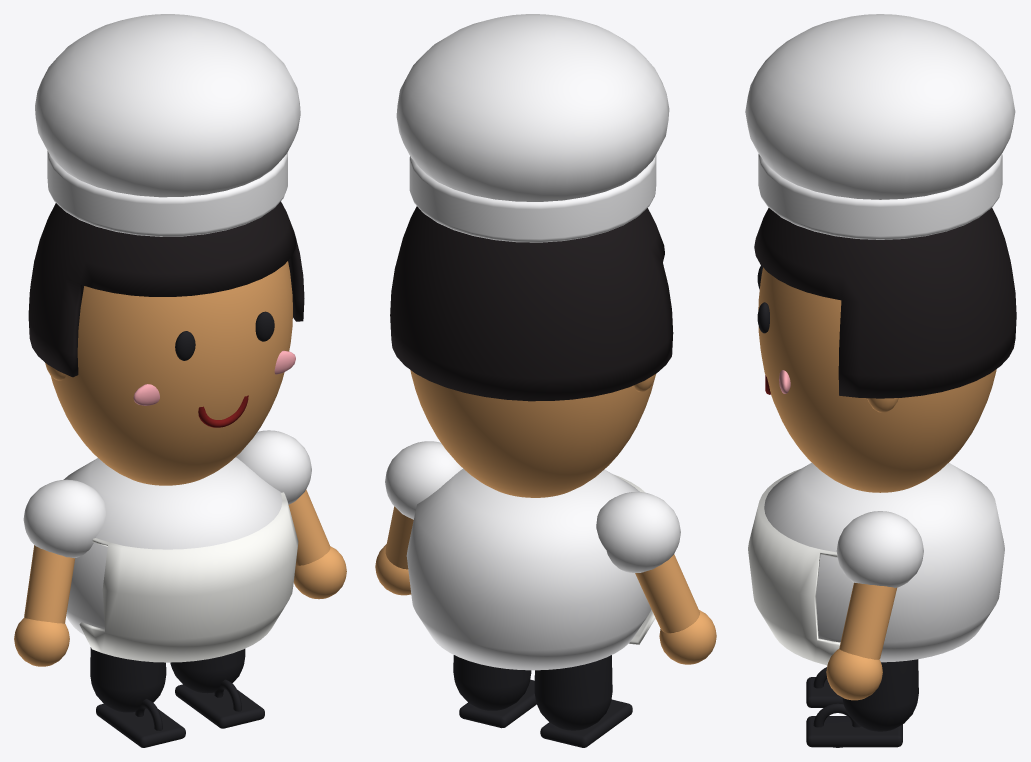
Rendered from worker_cook.glb.
3 views of the same model, side by side, from view 1: azimuth 30°, elevation 25°; view 2: azimuth 150°, elevation 25°; view 3: azimuth 270°, elevation 25° (orthographic). The views are drawn at different scales.
Parts seen in each view (by area): view 1: ToquePuff, HeadSkin, Apron, Hair, Torso, ToqueBand, Sleeve-1, Leg-1, Sleeve1, UpperArmR, HandR, Shoe-1 (+4 smaller); view 2: Hair, ToquePuff, Torso, HeadSkin, ToqueBand, Sleeve-1, Leg-1, Sleeve1, UpperArmR, Leg1, HandR, Shoe-1 (+3 smaller); view 3: ToquePuff, Hair, Torso, HeadSkin, ToqueBand, Apron, Sleeve1, Leg1, UpperArmL, Shoe1, HandL, Shoe-1 (+1 smaller).
Boxes of the visible parts, bbox=[...] form: ToquePuff: bbox=[35, 14, 300, 197]; HeadSkin: bbox=[51, 261, 292, 485]; Apron: bbox=[79, 492, 298, 662]; Hair: bbox=[28, 201, 304, 377]; Torso: bbox=[63, 457, 282, 634]; ToqueBand: bbox=[47, 151, 287, 236]; Sleeve-1: bbox=[23, 479, 105, 558]; Leg-1: bbox=[90, 647, 166, 712]; Sleeve1: bbox=[236, 430, 311, 504]; UpperArmR: bbox=[24, 545, 74, 623]; HandR: bbox=[14, 618, 69, 666]; Shoe-1: bbox=[96, 703, 185, 747]; Hair: bbox=[390, 206, 673, 401]; ToquePuff: bbox=[396, 14, 669, 201]; Torso: bbox=[406, 468, 651, 670]; HeadSkin: bbox=[410, 370, 653, 497]; ToqueBand: bbox=[409, 155, 656, 242]; Sleeve-1: bbox=[596, 492, 680, 572]; Leg-1: bbox=[534, 655, 612, 730]; Sleeve1: bbox=[385, 441, 462, 519]; UpperArmR: bbox=[635, 554, 699, 633]; Leg1: bbox=[453, 655, 531, 710]; HandR: bbox=[659, 610, 716, 664]; Shoe-1: bbox=[540, 699, 632, 747]; ToquePuff: bbox=[745, 14, 1015, 199]; Hair: bbox=[754, 208, 1016, 398]; Torso: bbox=[764, 463, 1004, 662]; HeadSkin: bbox=[758, 267, 996, 492]; ToqueBand: bbox=[758, 154, 1002, 239]; Apron: bbox=[748, 469, 840, 665]; Sleeve1: bbox=[836, 511, 923, 587]; Leg1: bbox=[842, 659, 918, 731]; UpperArmL: bbox=[839, 582, 896, 659]; Shoe1: bbox=[806, 716, 902, 747]; HandL: bbox=[826, 649, 882, 700]; Shoe-1: bbox=[806, 677, 843, 707].
Size of the model in its own units: 0.7104 by 1.43 by 0.5064.
